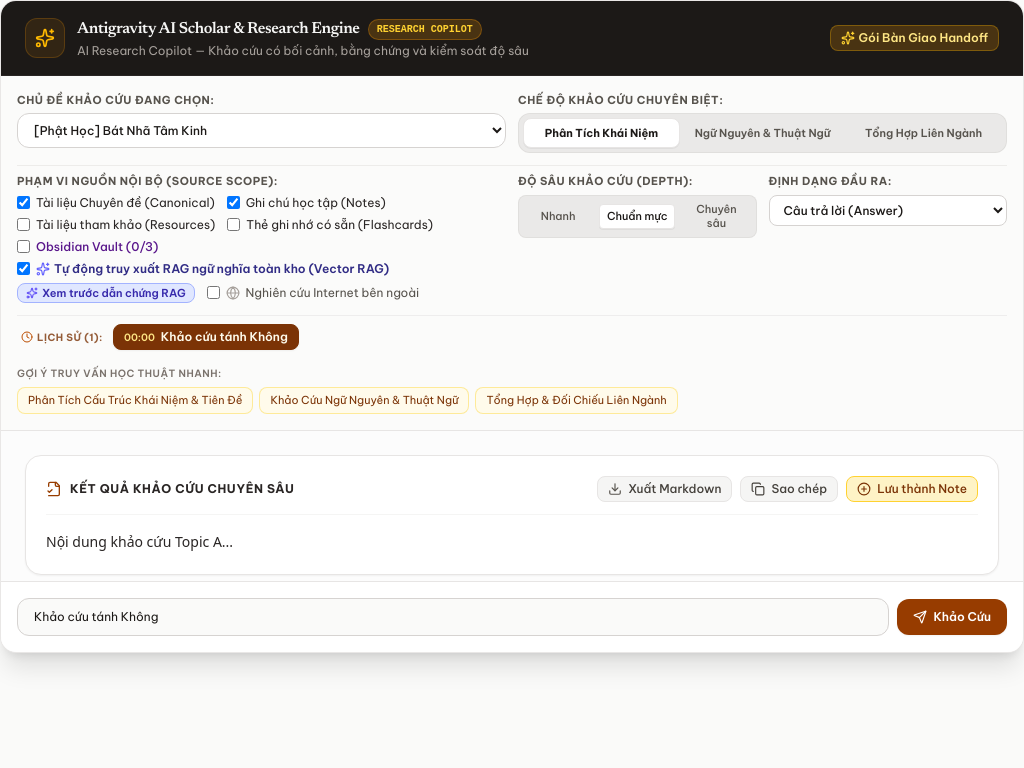
Phase P6.0: AI Research Studio UI Persistence & Export Integration › 1. Auto-Restore and Topic Isolation › 1.2. Chuyển đổi topic khôi phục đúng session của topic đích và không rò rỉ session
Expected: the text "Nội dung khảo cứu Topic A..." is shown, [46,532,233,551]
Note: Switch to Topic B
Select "[Kinh Tế Học] Kinh Tế Học Vĩ Mô" in the dropdown labelled "Chủ đề khảo cứu đang chọn:": [262, 130] box [17,112,506,148]
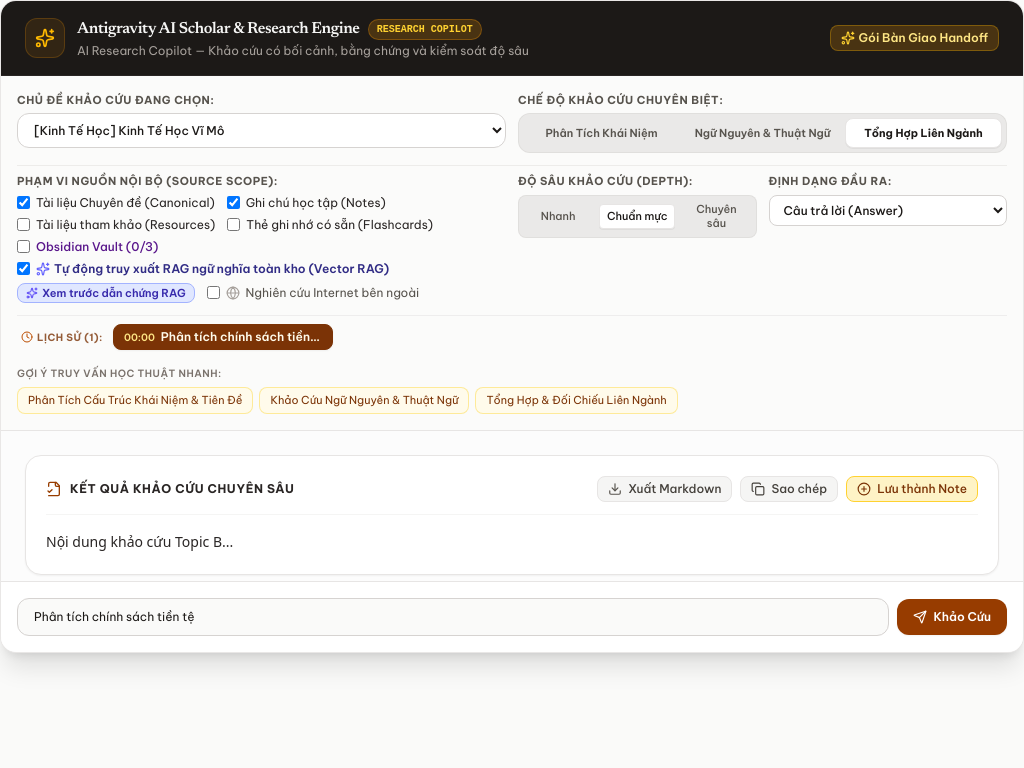
Now the text "Nội dung khảo cứu Topic B..." is shown, box [46,532,233,551]
Now the text "Nội dung khảo cứu Topic A" is gone
Note: Switch to Topic C (which has no stored sessions)
Select "[Huyền Học] Kỳ Môn Độn Giáp Khảo Luận" in the dropdown labelled "Chủ đề khảo cứu đang chọn:": [262, 130] box [17,112,506,148]
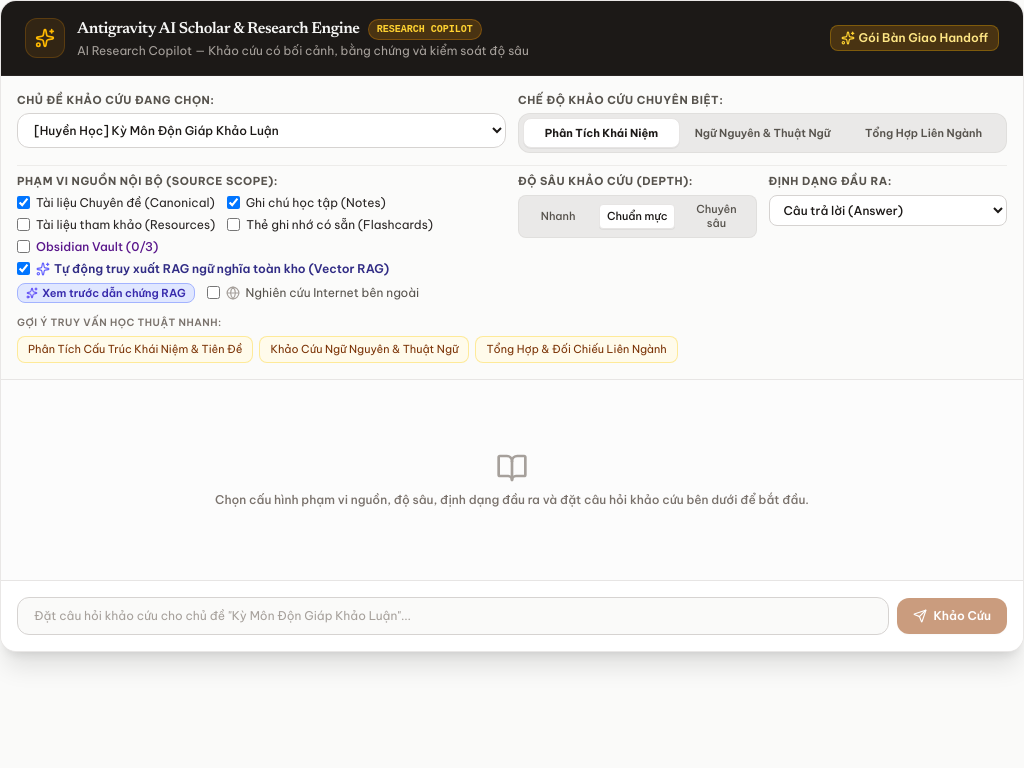
Now the text "Nội dung khảo cứu Topic B" is gone
Now the text "Chọn cấu hình phạm vi nguồn" is shown, box [215,492,809,507]
